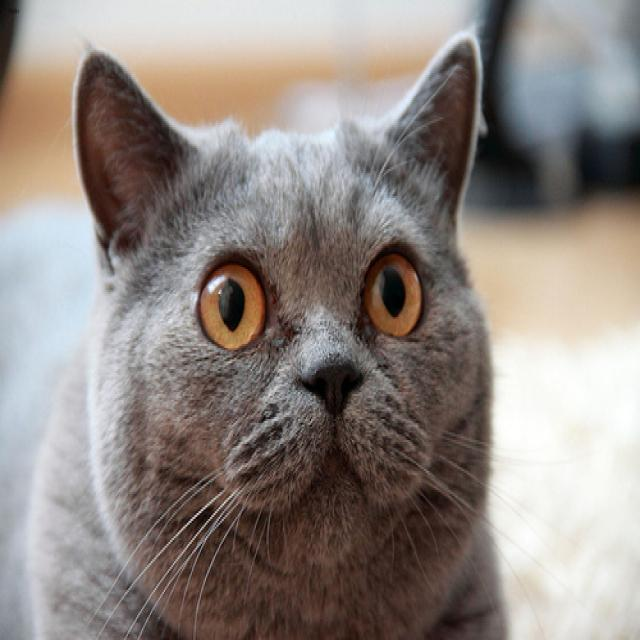British_Shorthair: (63, 24, 501, 634)
